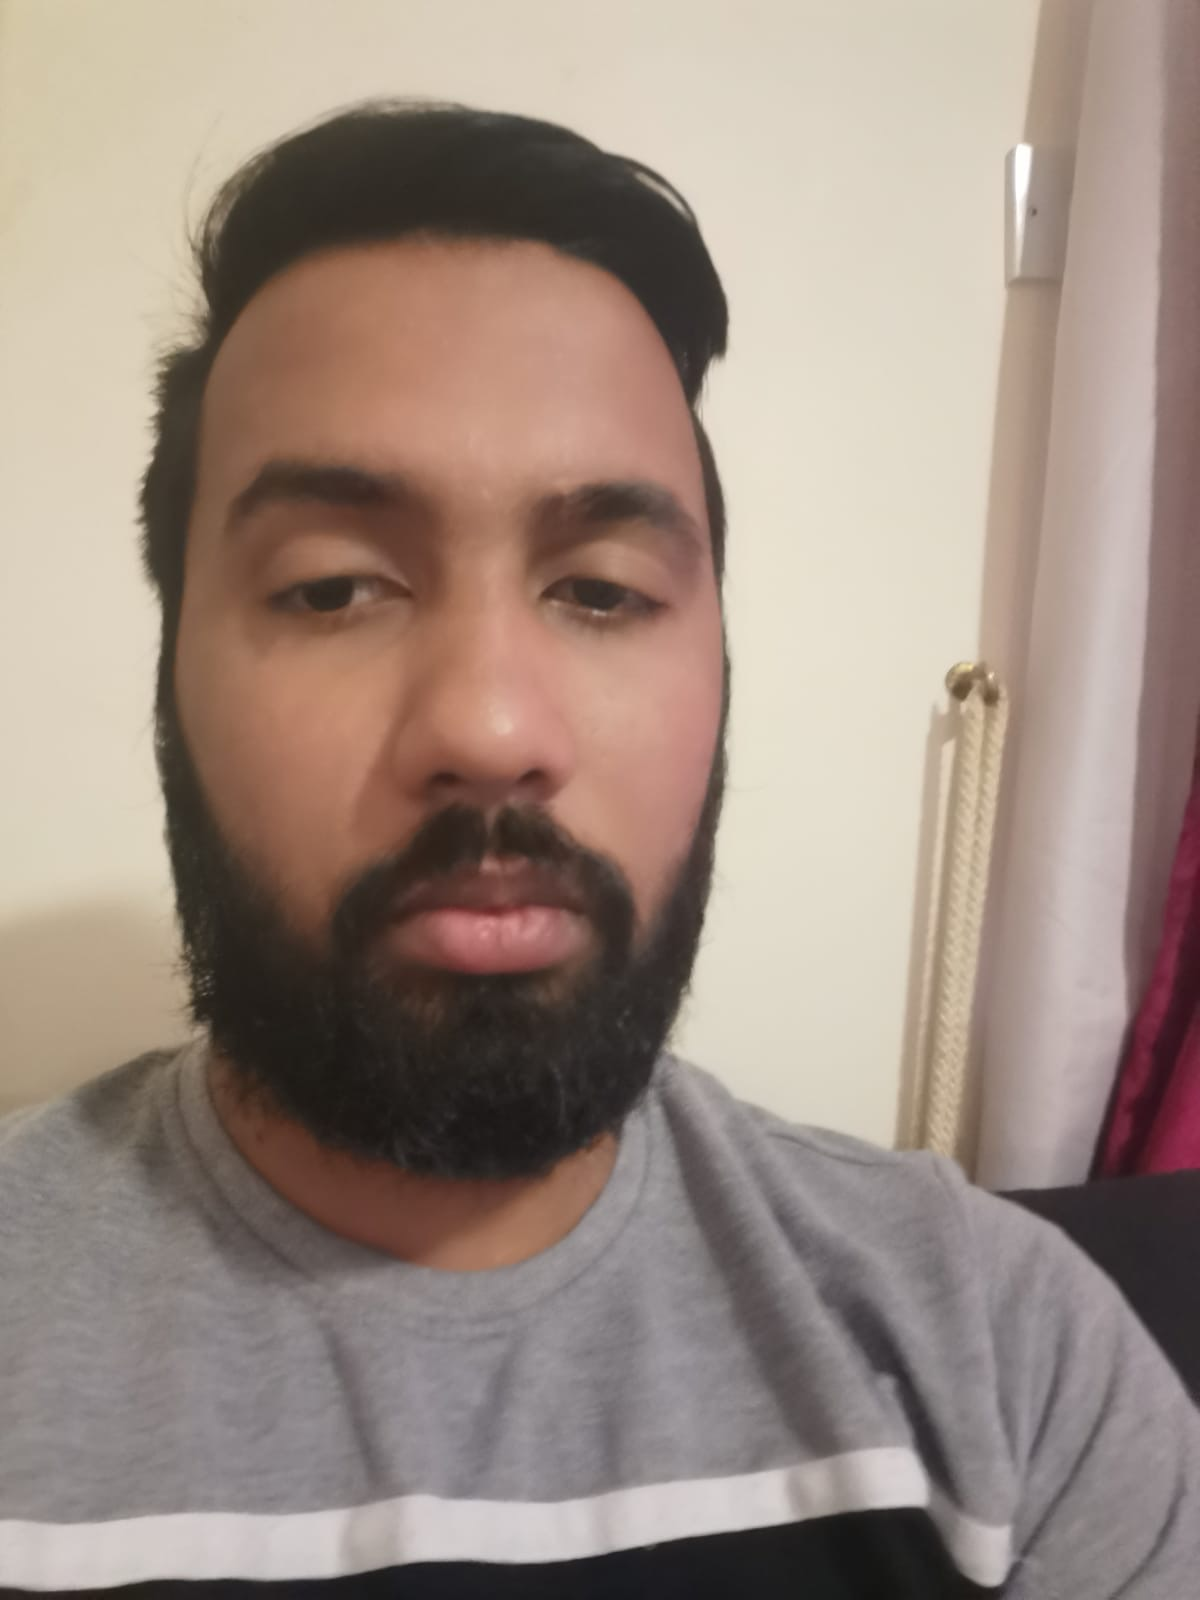Not Sleeping: (205, 520, 718, 656)
